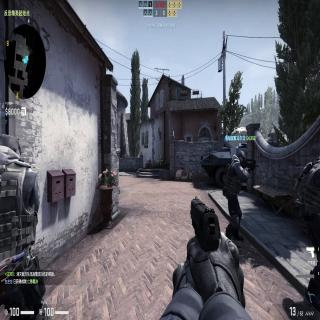CT-Body: (222, 149, 247, 245)
CT-Head: (236, 150, 248, 167)
